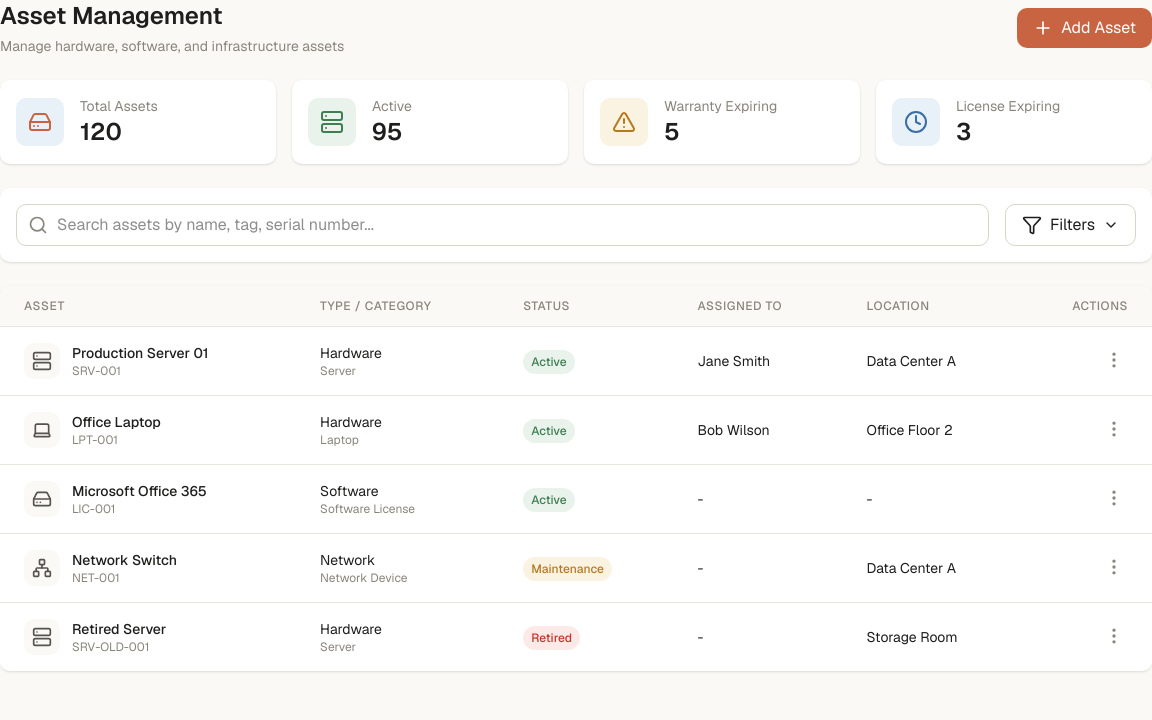
AssetsPage › Create Asset Modal › should close modal when clicking X
Click the button "Add Asset": point(1085, 28) [1017,8,1151,48]
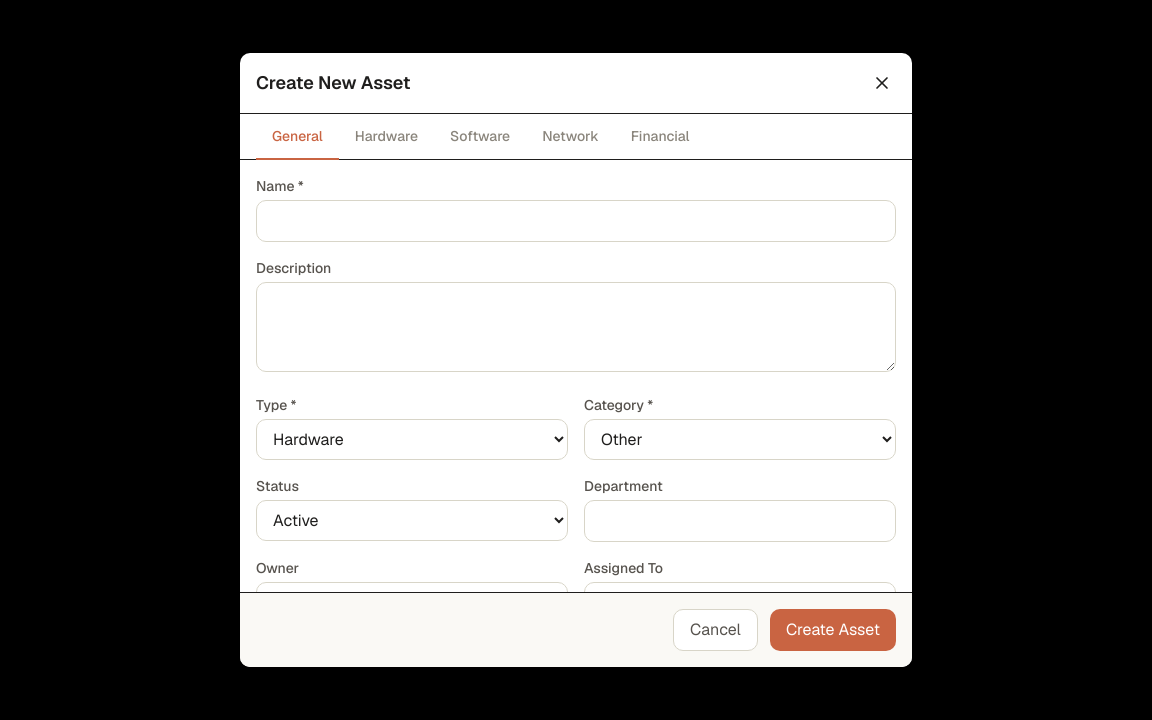
Click the 1st button: point(882, 83) [868,69,896,97]
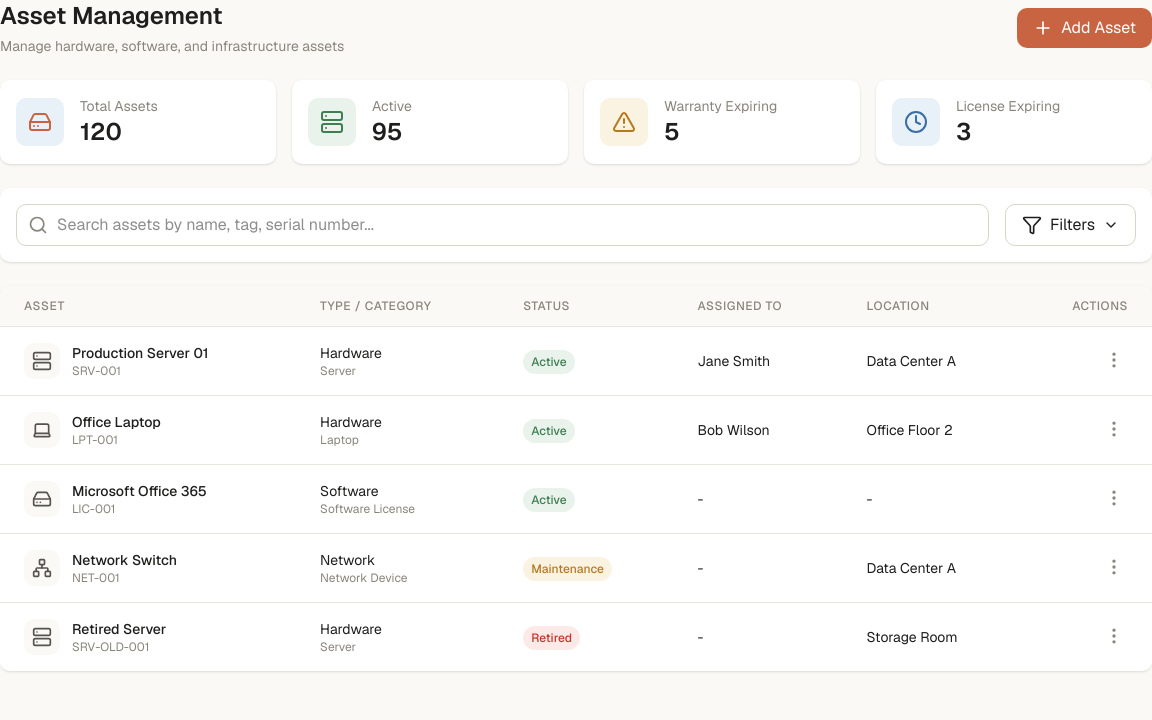
Expected: the heading "Create New Asset" is gone
